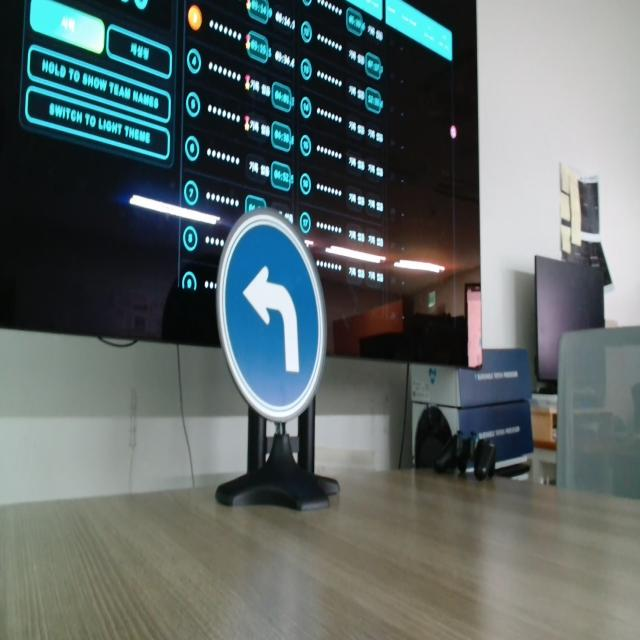left_direction: (212, 204, 328, 427)
